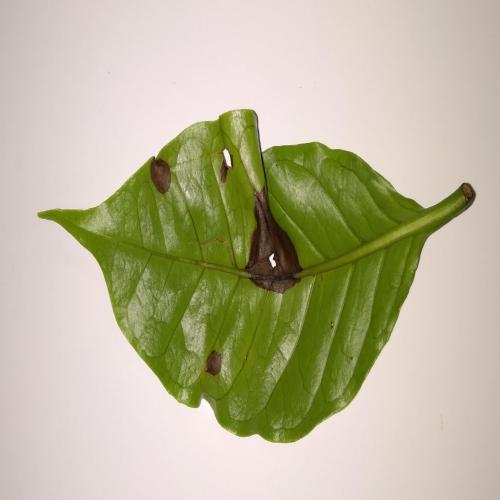miner: (221, 147, 233, 182)
